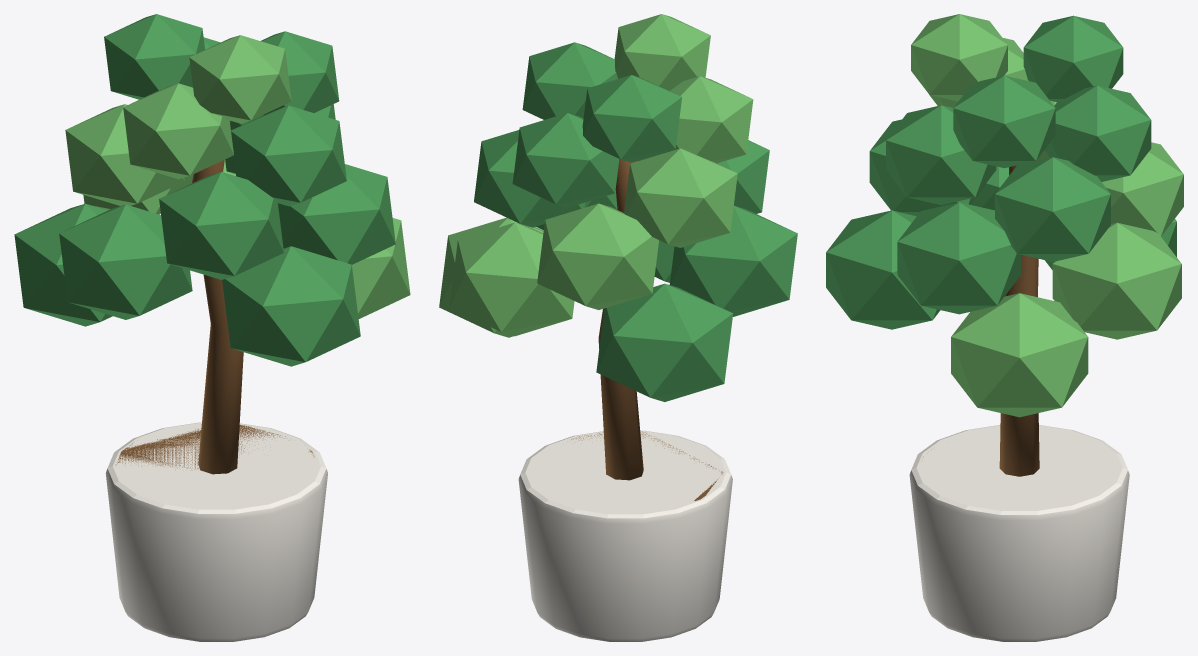
File: arvore.glb
The picture shows the model from 3 angles, left to right: view 1: azimuth 30°, elevation 25°; view 2: azimuth 150°, elevation 25°; view 3: azimuth 270°, elevation 25°; orthographic projection. The views are drawn at different scales.
Parts seen in each view (by area): view 1: arvore; view 2: arvore; view 3: arvore.
Part boxes in pixels (x1,y1,x2,y2): arvore: (14,14,410,641); arvore: (439,14,797,641); arvore: (826,14,1183,641).
Bounding box in the file's own units: 1.56 × 2.57 × 1.42.
